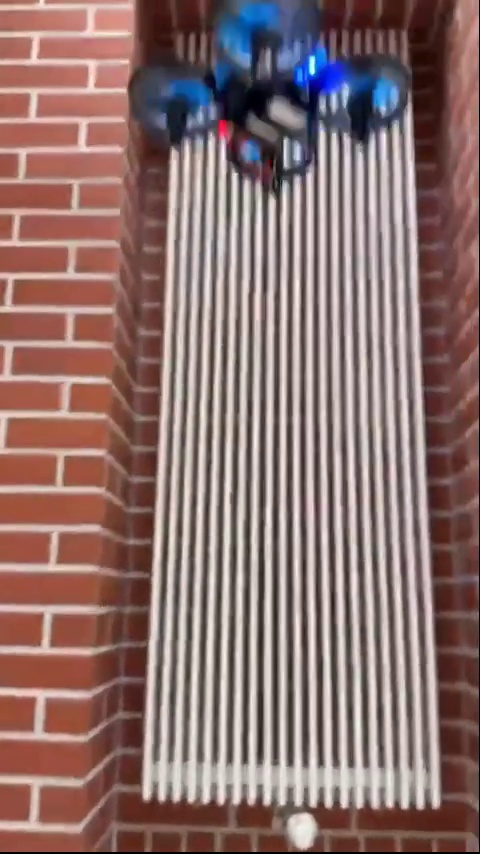drone: (131, 7, 416, 186)
